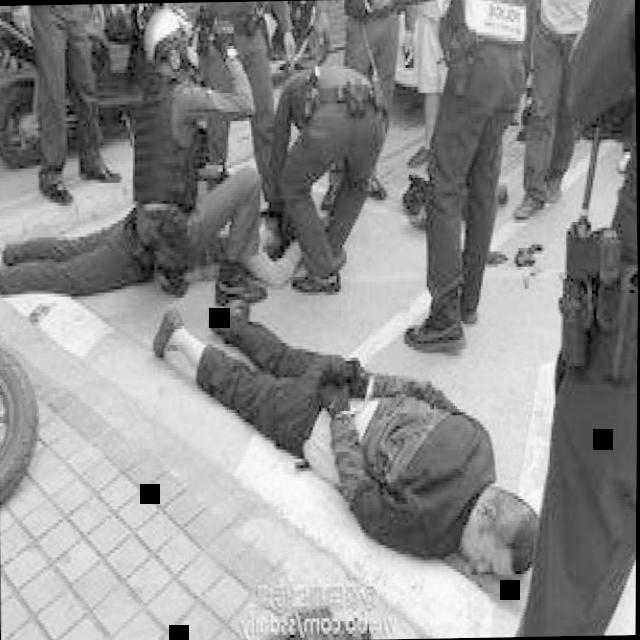Fall-Detected: (0, 167, 293, 291)
